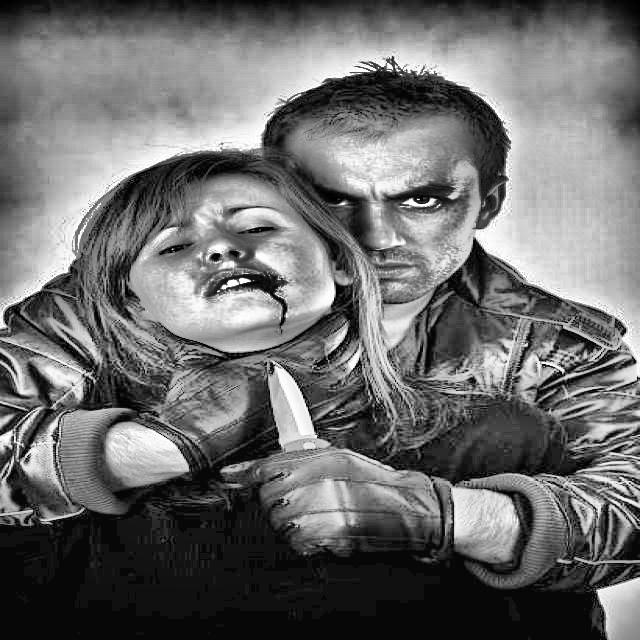pisau: (258, 350, 359, 566)
